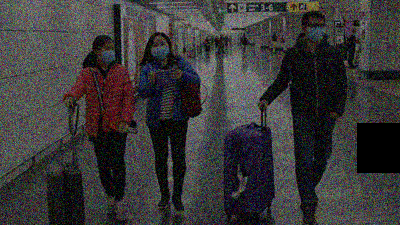with_mask: (306, 21, 326, 42), (151, 41, 171, 61), (99, 44, 116, 64), (354, 32, 357, 38), (243, 34, 246, 37), (217, 36, 219, 39), (216, 37, 218, 39), (207, 38, 208, 40), (226, 35, 227, 37), (230, 36, 231, 38)
without_mask: (275, 32, 277, 35)
